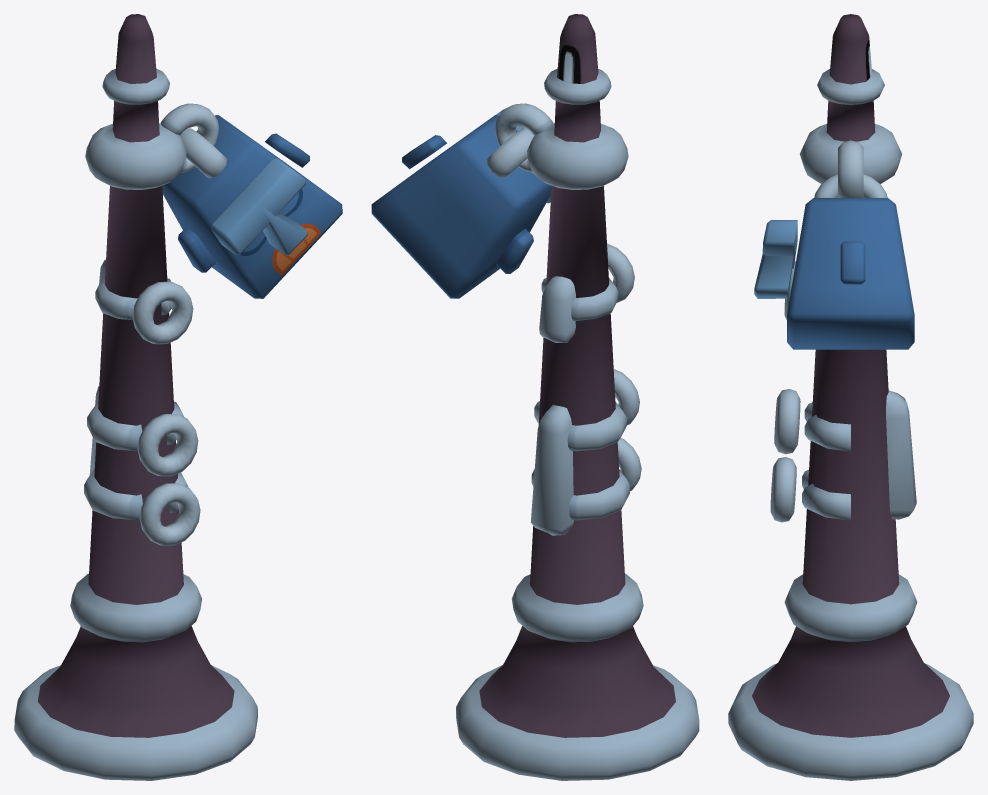
The model's file is clarinete.glb.
3 views of the same model, side by side, from view 1: azimuth 30°, elevation 25°; view 2: azimuth 150°, elevation 25°; view 3: azimuth 270°, elevation 25° (orthographic).
Visible parts, largest first — view 1: Object_3, Object_2; view 2: Object_3, Object_2; view 3: Object_3, Object_2.
Boxes of the visible parts, <box> form: Object_3: <box>14,14,257,780</box>; Object_2: <box>162,115,342,298</box>; Object_3: <box>456,14,699,780</box>; Object_2: <box>371,109,551,298</box>; Object_3: <box>728,14,973,780</box>; Object_2: <box>754,198,914,349</box>.
Size of the model in its own units: 698 by 1675 by 523.
2 materials, 2 textured.
